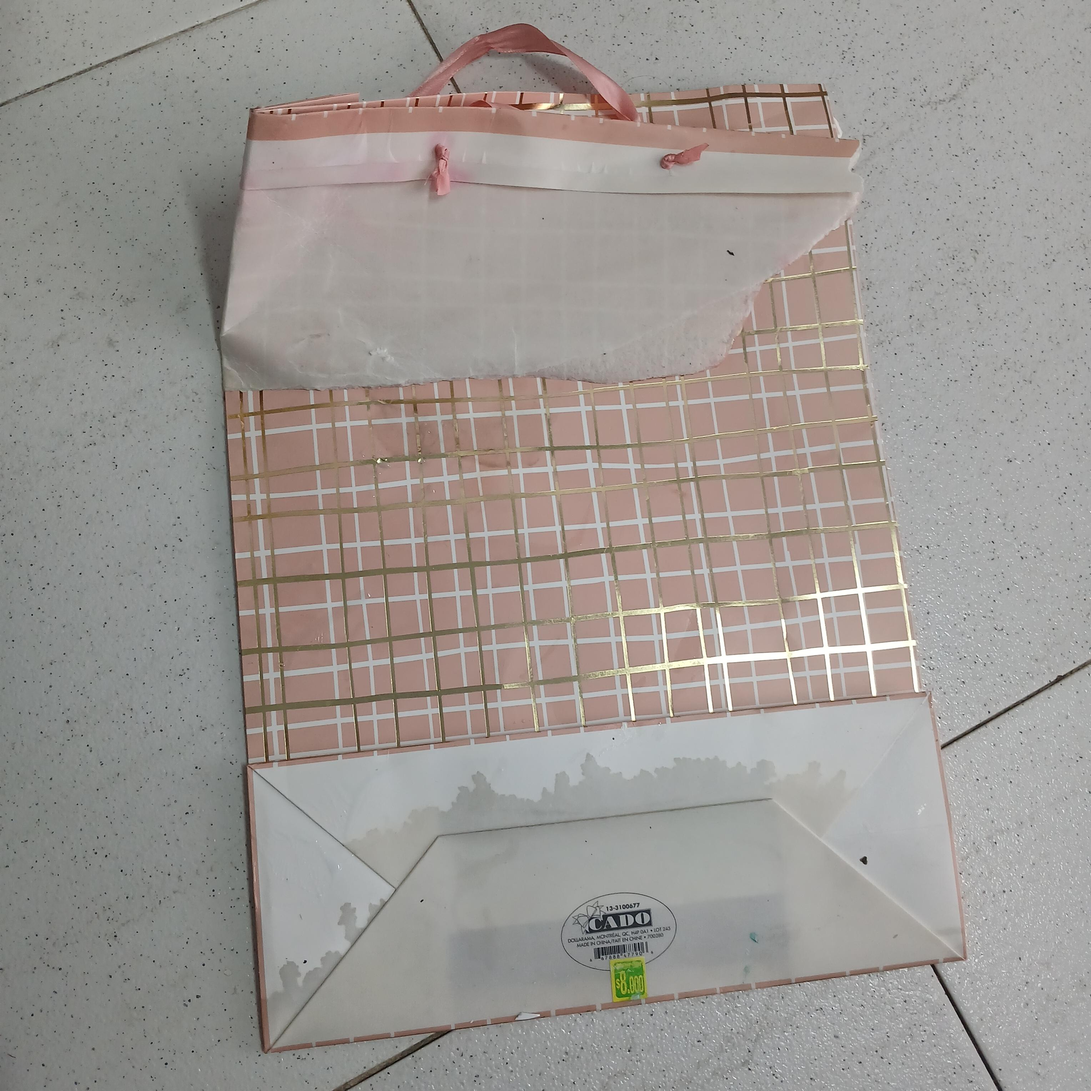Ordinario: (219, 21, 968, 1050)
